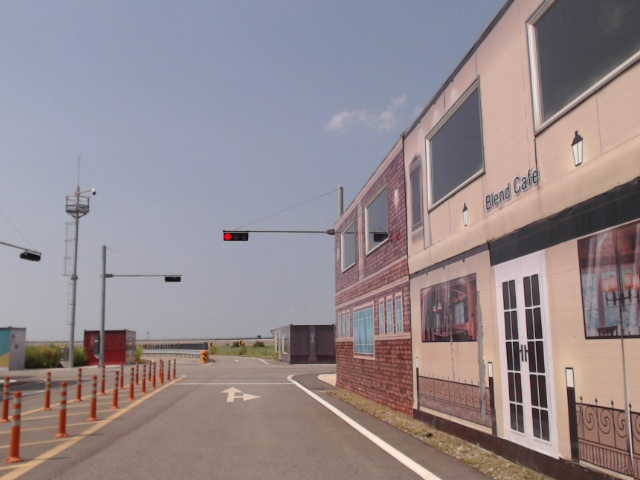red_3: (224, 232, 248, 241)
